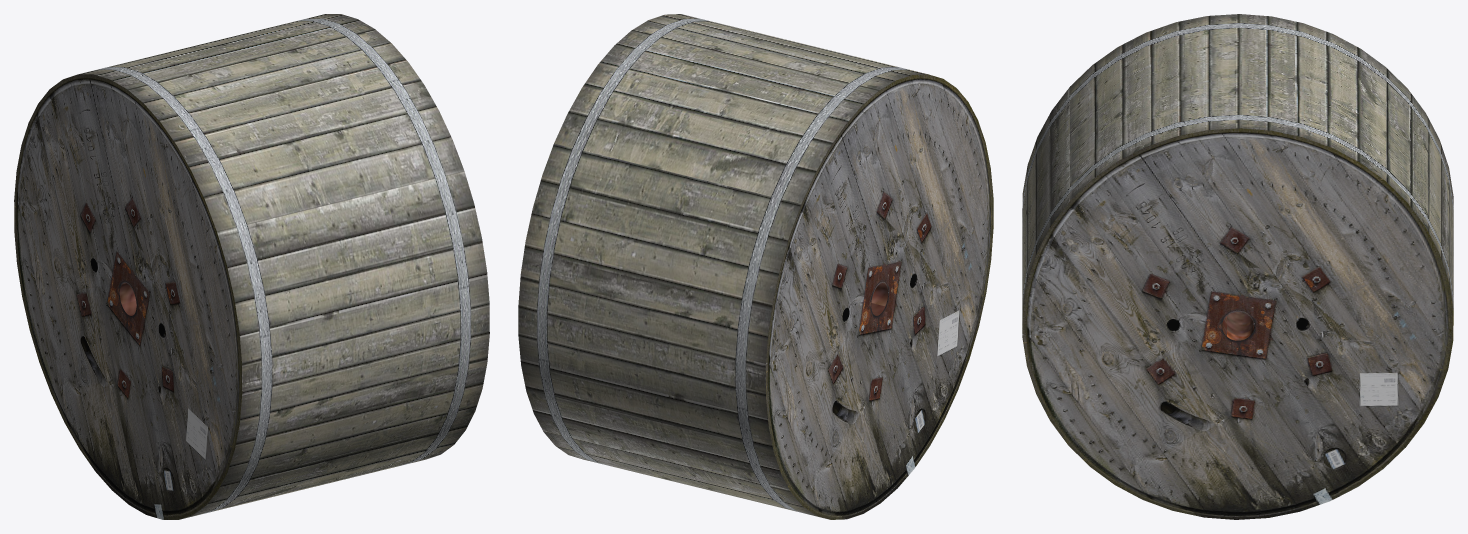
The model's file is d_cable2.FBX.
3 renders of one model, left to right at view 1: azimuth 30°, elevation 25°; view 2: azimuth 150°, elevation 25°; view 3: azimuth 270°, elevation 25°, orthographic. The views are drawn at different scales.
Visible parts, largest first — view 1: d_cable2; view 2: d_cable2; view 3: d_cable2.
Part boxes in pixels (<box>): d_cable2: <box>14,14,489,519</box>; d_cable2: <box>518,14,993,519</box>; d_cable2: <box>1022,14,1453,519</box>.
Size of the model in its own units: 1 by 1.59 by 1.6.
